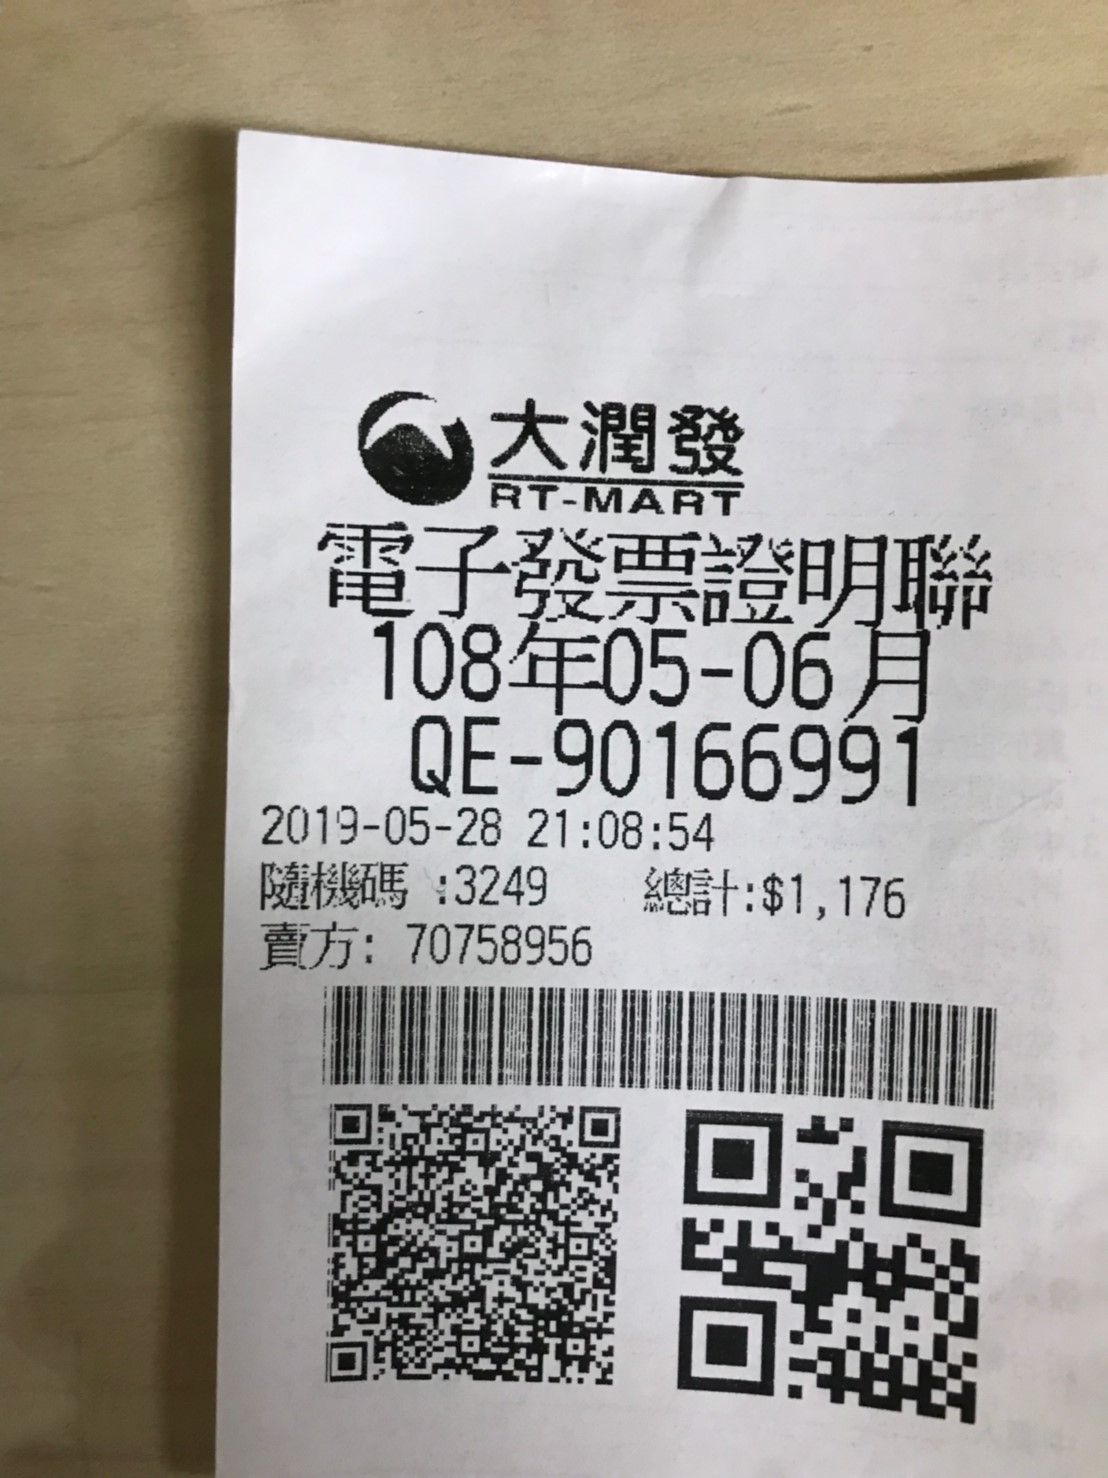Date_New: (370, 620, 933, 725)
Number_New: (551, 718, 922, 812)
